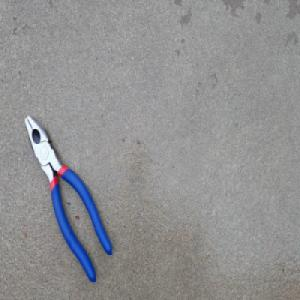Pliers: (23, 112, 113, 284)
